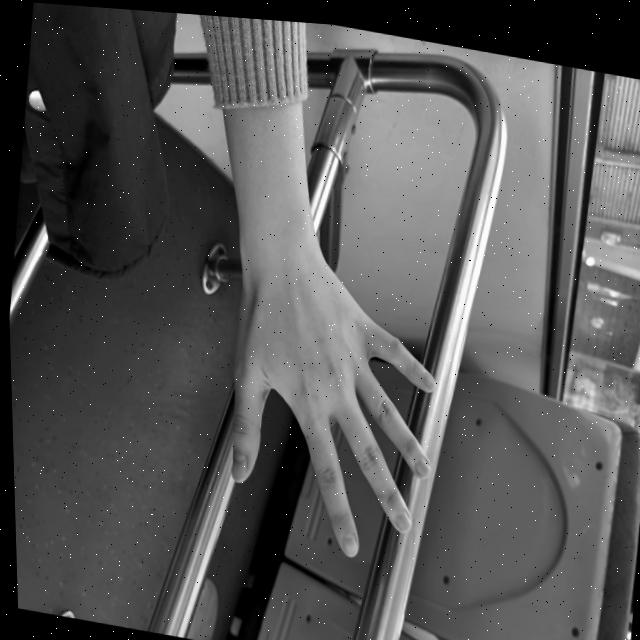hand: (206, 246, 451, 568)
